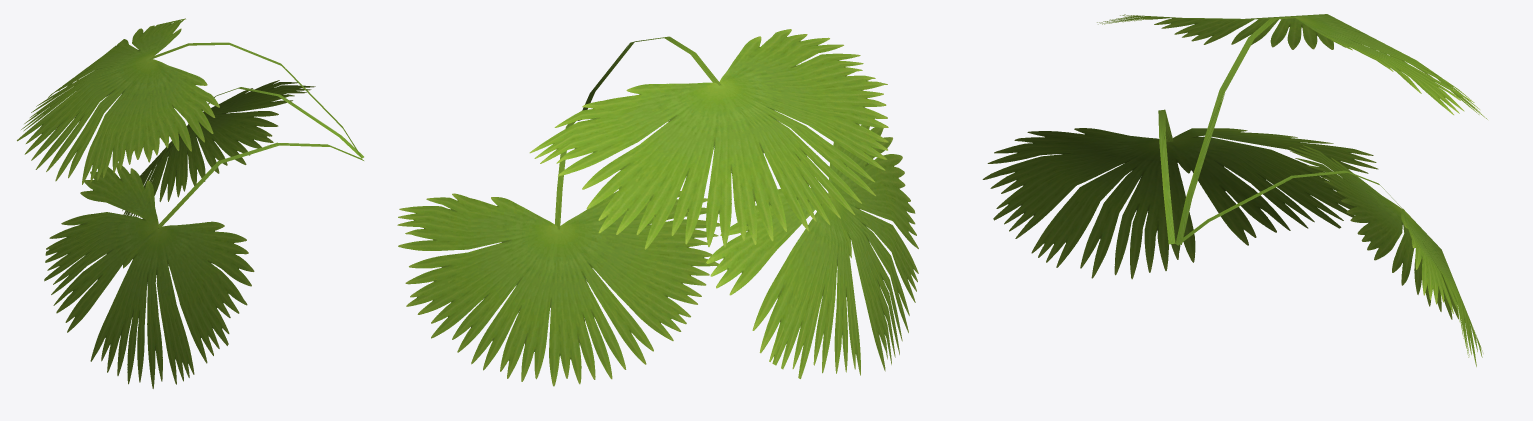
File: SerratedBigLeaves01.dae
The picture shows the model from 3 angles, left to right: view 1: azimuth 30°, elevation 25°; view 2: azimuth 150°, elevation 25°; view 3: azimuth 270°, elevation 25°; orthographic projection. The views are drawn at different scales.
Parts seen in each view (by area): view 1: polySurface252; view 2: polySurface252; view 3: polySurface252.
Part boxes in pixels (x1,y1,x2,y2): polySurface252: (17, 18, 363, 388); polySurface252: (397, 29, 918, 386); polySurface252: (982, 14, 1487, 366).
Size of the model in its own units: 2.88 by 2.11 by 2.91.
1 material, 1 textured.
